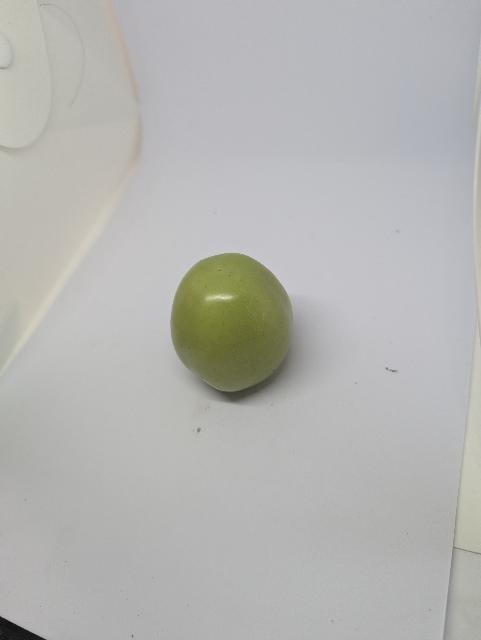green: (147, 218, 296, 432)
